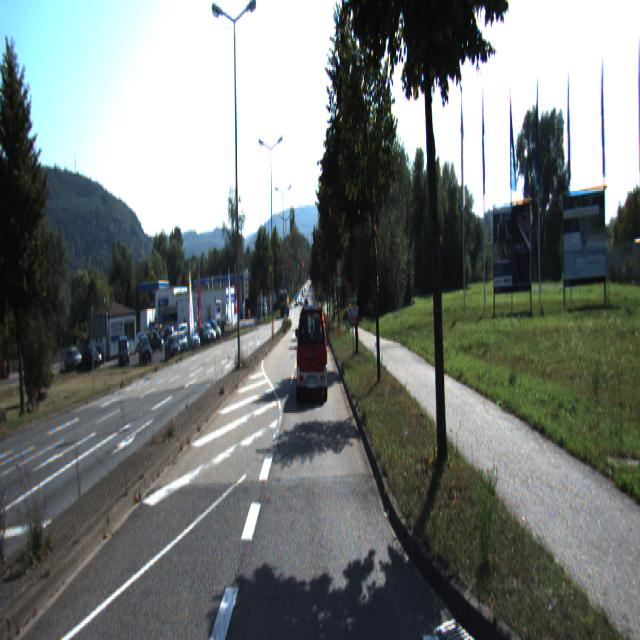Car: (296, 307, 328, 405)
